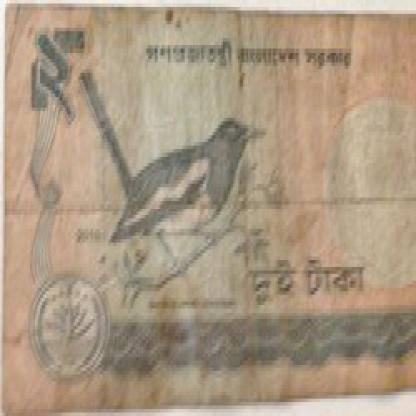two taka: (238, 246, 371, 319), (18, 28, 86, 121)
